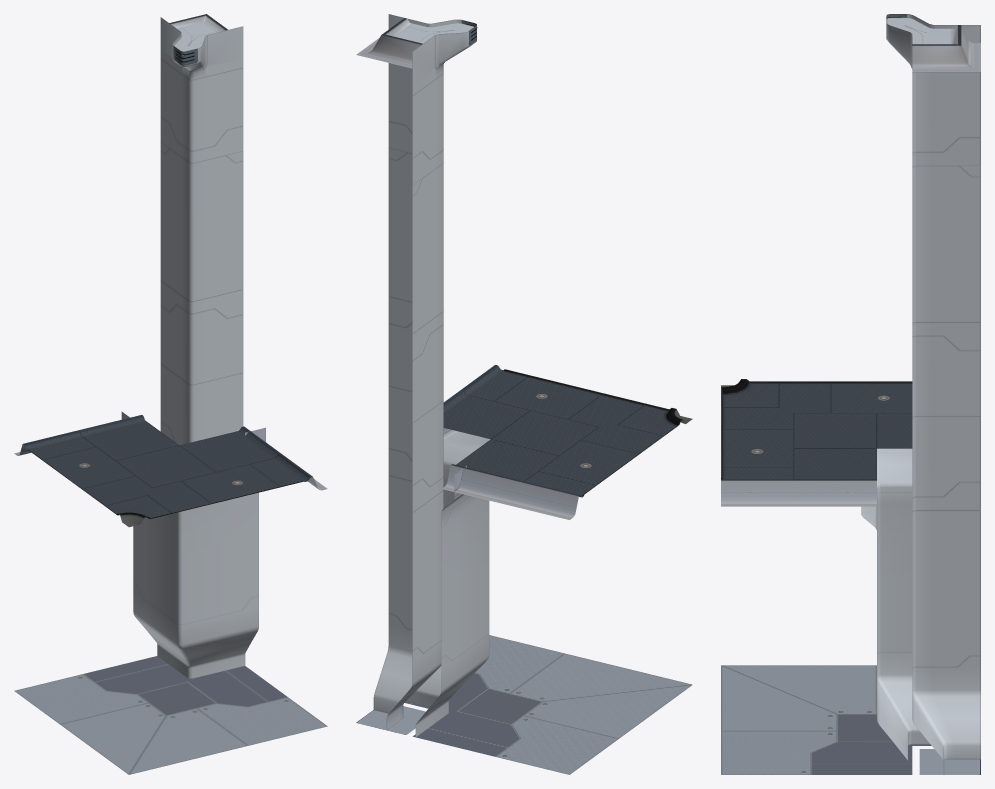
The model's file is Room_A_corner_small_tall.fbx.
3 renders of one model, left to right at view 1: azimuth 30°, elevation 25°; view 2: azimuth 150°, elevation 25°; view 3: azimuth 270°, elevation 25°, orthographic. The views are drawn at different scales.
Parts seen in each view (by area): view 1: Room_A_corner_small_tall; view 2: Room_A_corner_small_tall; view 3: Room_A_corner_small_tall.
Boxes of the visible parts, x1,y1,x2,y2 form: Room_A_corner_small_tall: (14,14,327,774); Room_A_corner_small_tall: (356,14,692,774); Room_A_corner_small_tall: (721,14,980,774).
Bounding box in the file's own units: 250 × 766 × 250.
8 materials, 8 textured.
